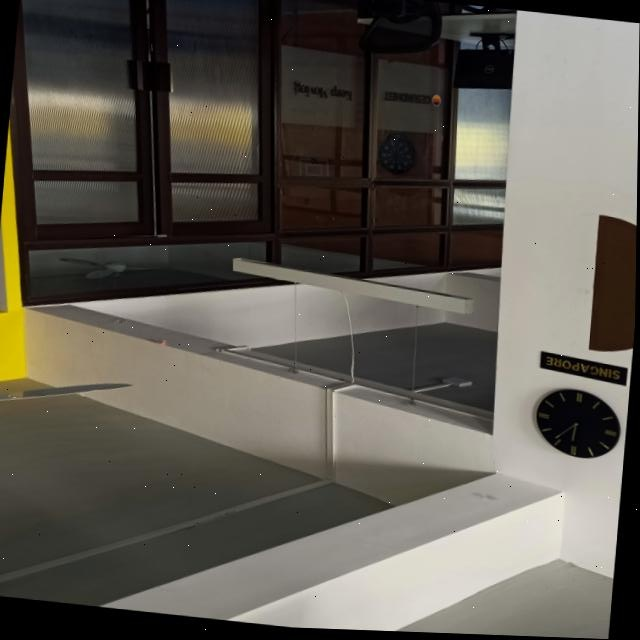fluorescent tube: (229, 254, 485, 320)
